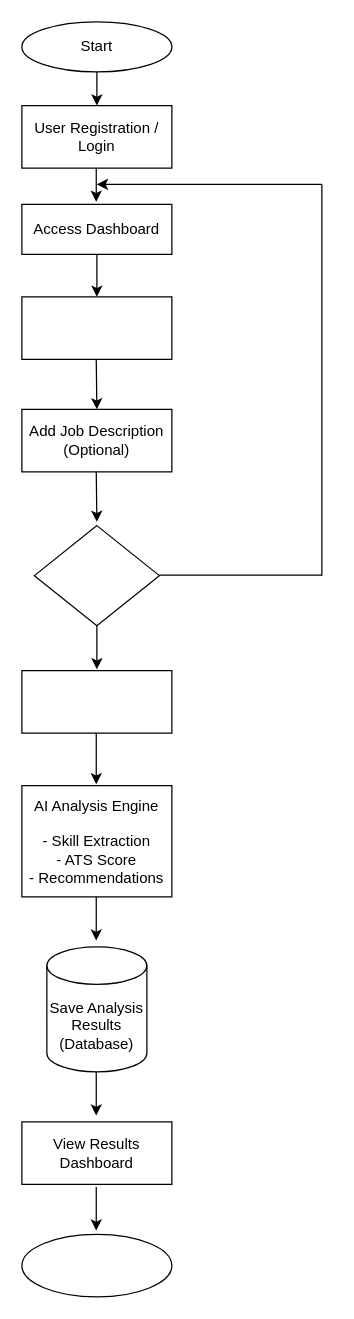
This 354x1319 diagram has some shape labels left out. Each missing label, with the centre of its shape:
"End" belongs at point (96, 1265).
"Resume Processing & Data Extraction" belongs at point (96, 701).
"Start AI Analysis?" belongs at point (96, 575).
"Upload Resume (PDF/DOCX)" belongs at point (96, 327).
